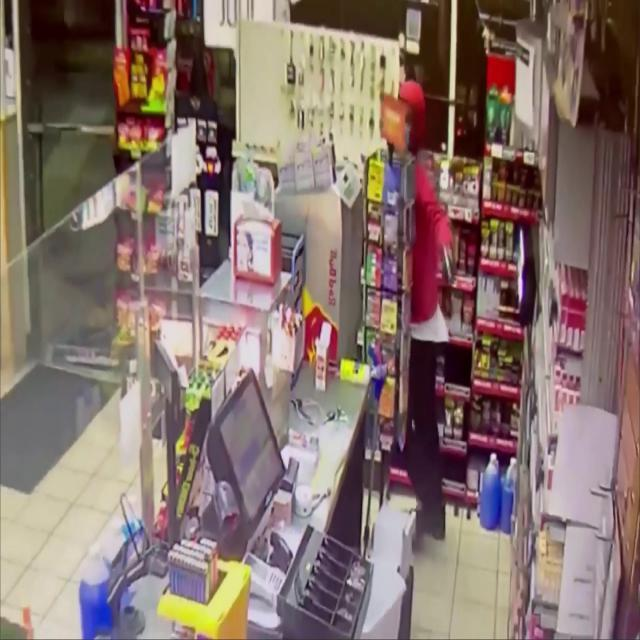Gun: (436, 240, 454, 286)
